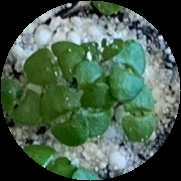Basil: (45, 88, 88, 147), (25, 40, 84, 82), (23, 142, 81, 181), (110, 42, 144, 101), (0, 83, 43, 128), (124, 86, 157, 142), (79, 82, 111, 136)
